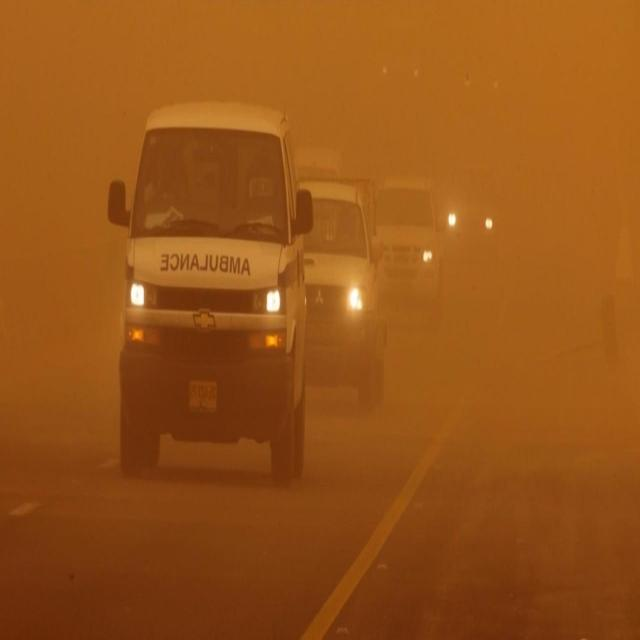Car: (104, 104, 310, 478), (304, 166, 388, 385), (376, 177, 442, 320), (442, 170, 501, 259)
